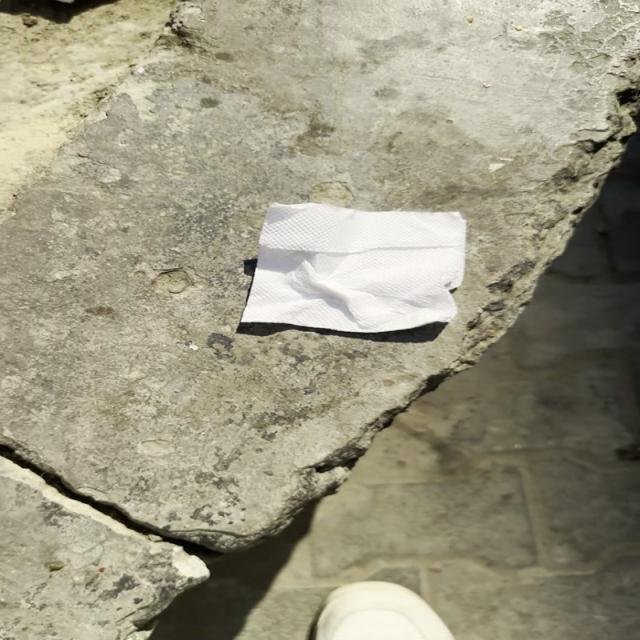tissue: (221, 200, 477, 333)
